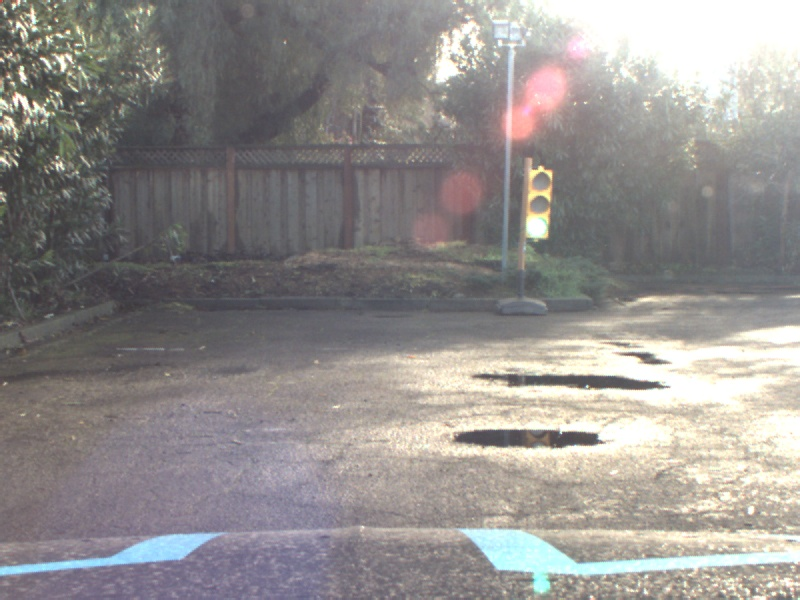Green: (525, 167, 552, 239)
